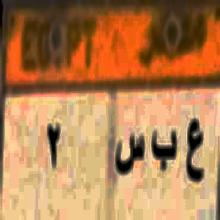2: (47, 109, 63, 178)
ain: (184, 112, 205, 194)
baa: (150, 126, 179, 184)
seen: (114, 126, 145, 185)
